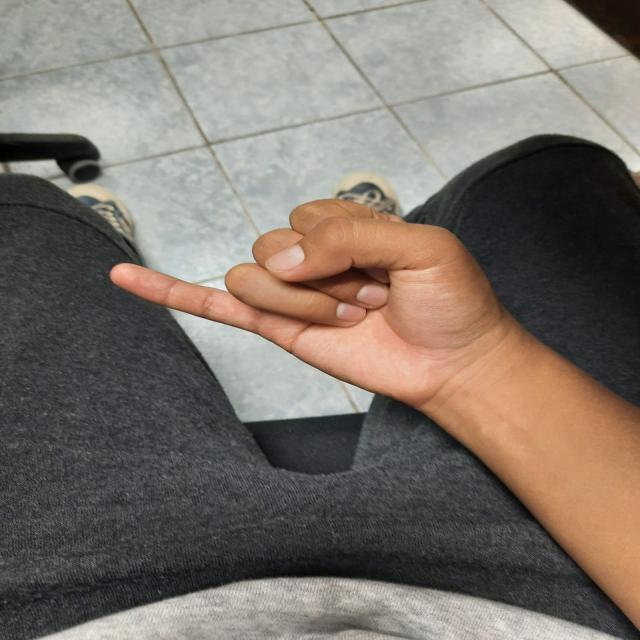Z: (98, 185, 507, 411)
